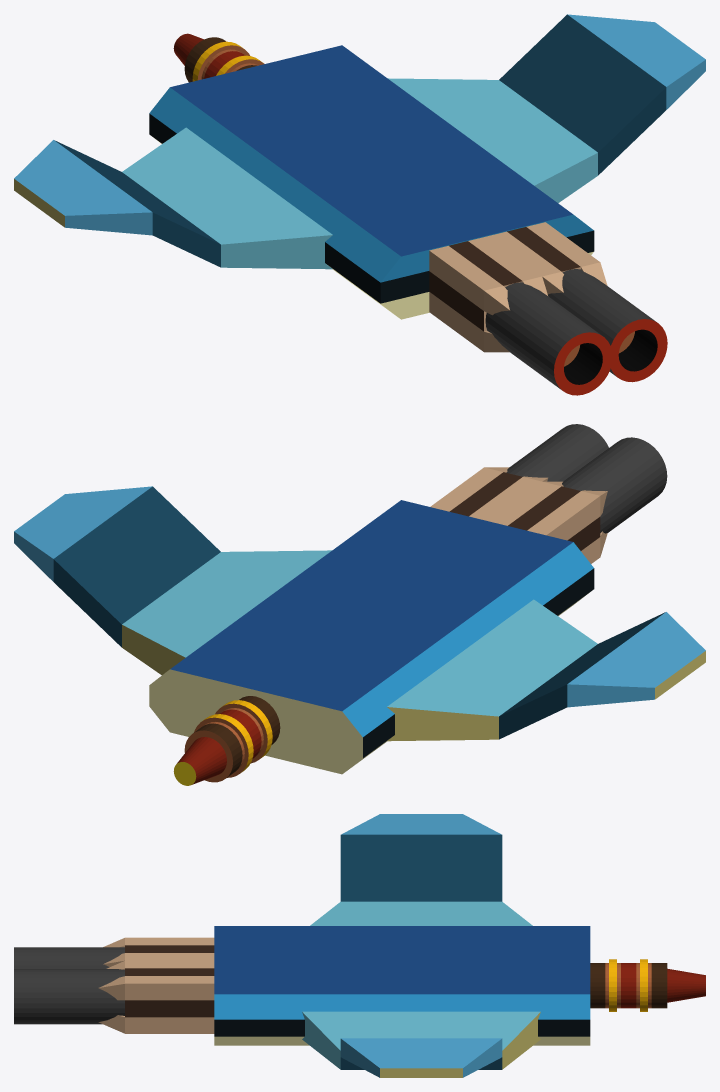
File: player.glb
3 renders of one model, top to bottom at view 1: azimuth 30°, elevation 25°; view 2: azimuth 150°, elevation 25°; view 3: azimuth 270°, elevation 25°, orthographic. The views are drawn at different scales.
Visible parts, largest first — view 1: Wings, Body, Jets, Engine, Weapon; view 2: Body, Wings, Jets, Engine, Weapon; view 3: Body, Wings, Engine, Jets, Weapon.
Part boxes in pixels (box(x1,y1,x2,y2)): Wings: box(14, 14, 705, 269); Body: box(149, 45, 594, 319); Jets: box(485, 269, 667, 395); Engine: box(429, 222, 607, 352); Weapon: box(173, 33, 264, 82); Body: box(149, 500, 594, 774); Wings: box(14, 486, 705, 741); Jets: box(506, 424, 667, 533); Engine: box(430, 467, 607, 563); Weapon: box(173, 696, 280, 785); Body: box(214, 926, 590, 1045); Wings: box(302, 814, 540, 1077); Engine: box(98, 937, 214, 1033); Jets: box(14, 947, 124, 1024); Weapon: box(590, 959, 705, 1011).
Size of the model in its own units: 6.07 by 0.8318 by 6.98.
2 materials, 2 textured.
